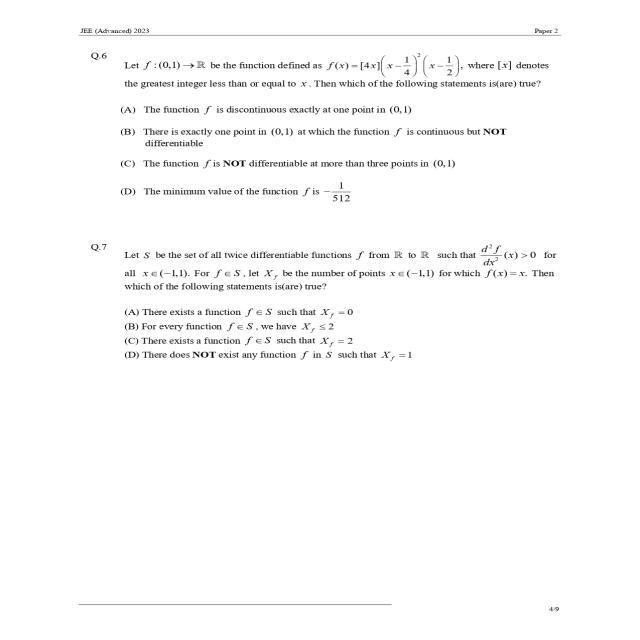Answer_Block: (67, 103, 600, 225), (67, 300, 600, 388)
Question_Answer_Block: (67, 43, 600, 224), (67, 228, 600, 388)
Question_Block: (67, 228, 600, 300), (67, 42, 600, 98)
Question_Paper_Area: (67, 42, 600, 544)
